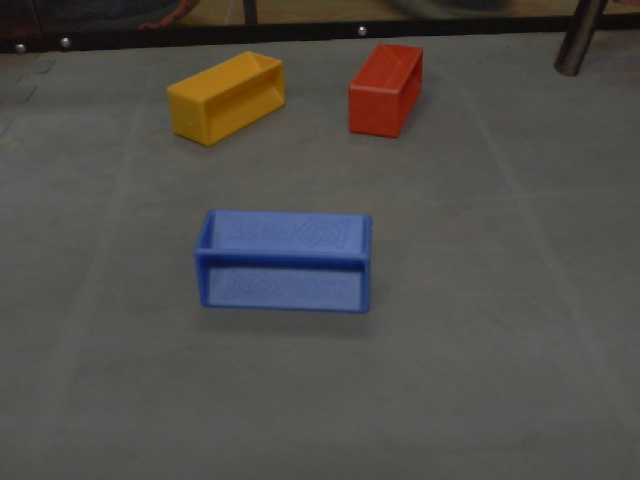BlueSample: (193, 208, 374, 317)
RedSample: (347, 42, 425, 141)
YellowSample: (164, 50, 286, 149)
